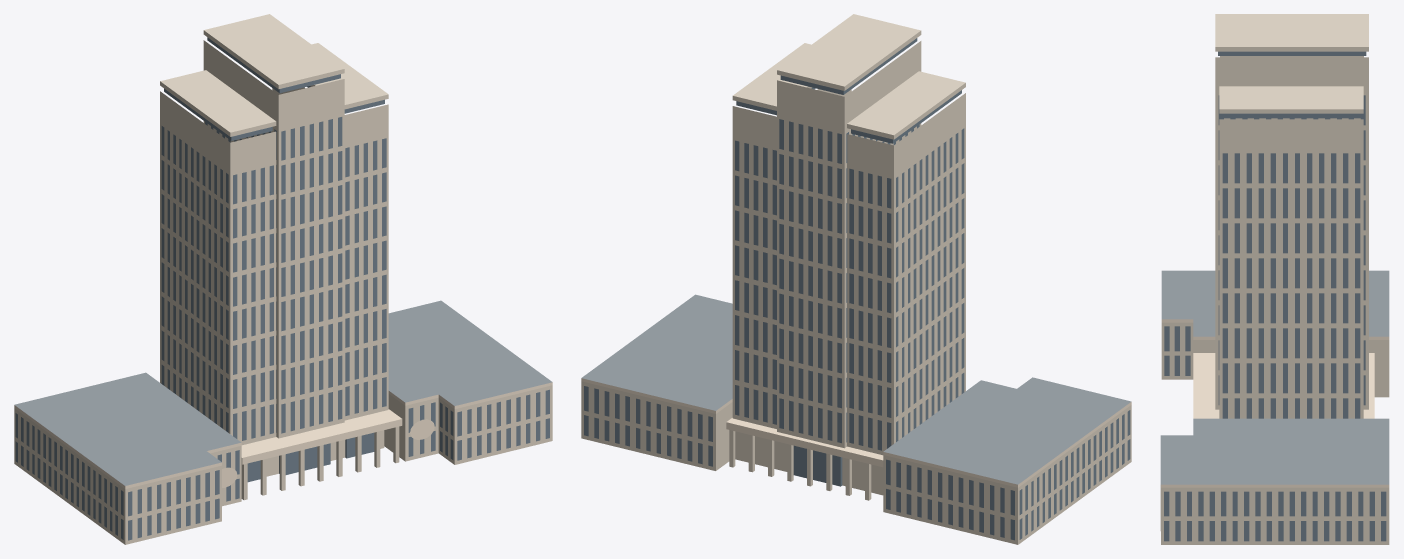
File: slc-church-office-building.glb
The picture shows the model from 3 angles, left to right: view 1: azimuth 30°, elevation 25°; view 2: azimuth 150°, elevation 25°; view 3: azimuth 270°, elevation 25°; orthographic projection. The views are drawn at different scales.
Visible parts, largest first — view 1: Church Office Building; view 2: Church Office Building; view 3: Church Office Building.
Part boxes in pixels (<box>): Church Office Building: <box>14,14,552,544</box>; Church Office Building: <box>581,14,1131,544</box>; Church Office Building: <box>1160,14,1389,544</box>.
Size of the model in its own units: 144 by 128 by 65.3.
